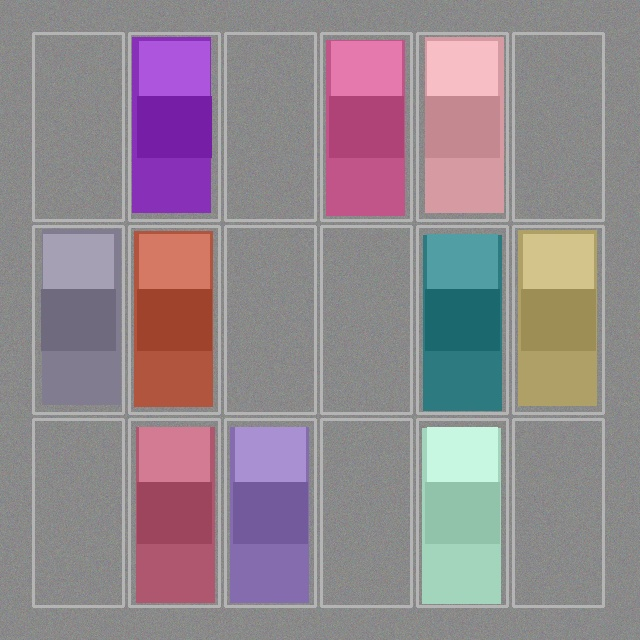space-empty: (35, 35, 121, 218), (227, 35, 313, 218), (515, 35, 601, 218), (227, 228, 313, 411), (323, 228, 409, 411), (35, 421, 121, 604), (323, 421, 409, 604), (515, 421, 601, 604)
space-occupied: (131, 35, 217, 218), (323, 35, 409, 218), (419, 35, 505, 218), (35, 228, 121, 411), (131, 228, 217, 411), (419, 228, 505, 411), (515, 228, 601, 411), (131, 421, 217, 604), (227, 421, 313, 604), (419, 421, 505, 604)
